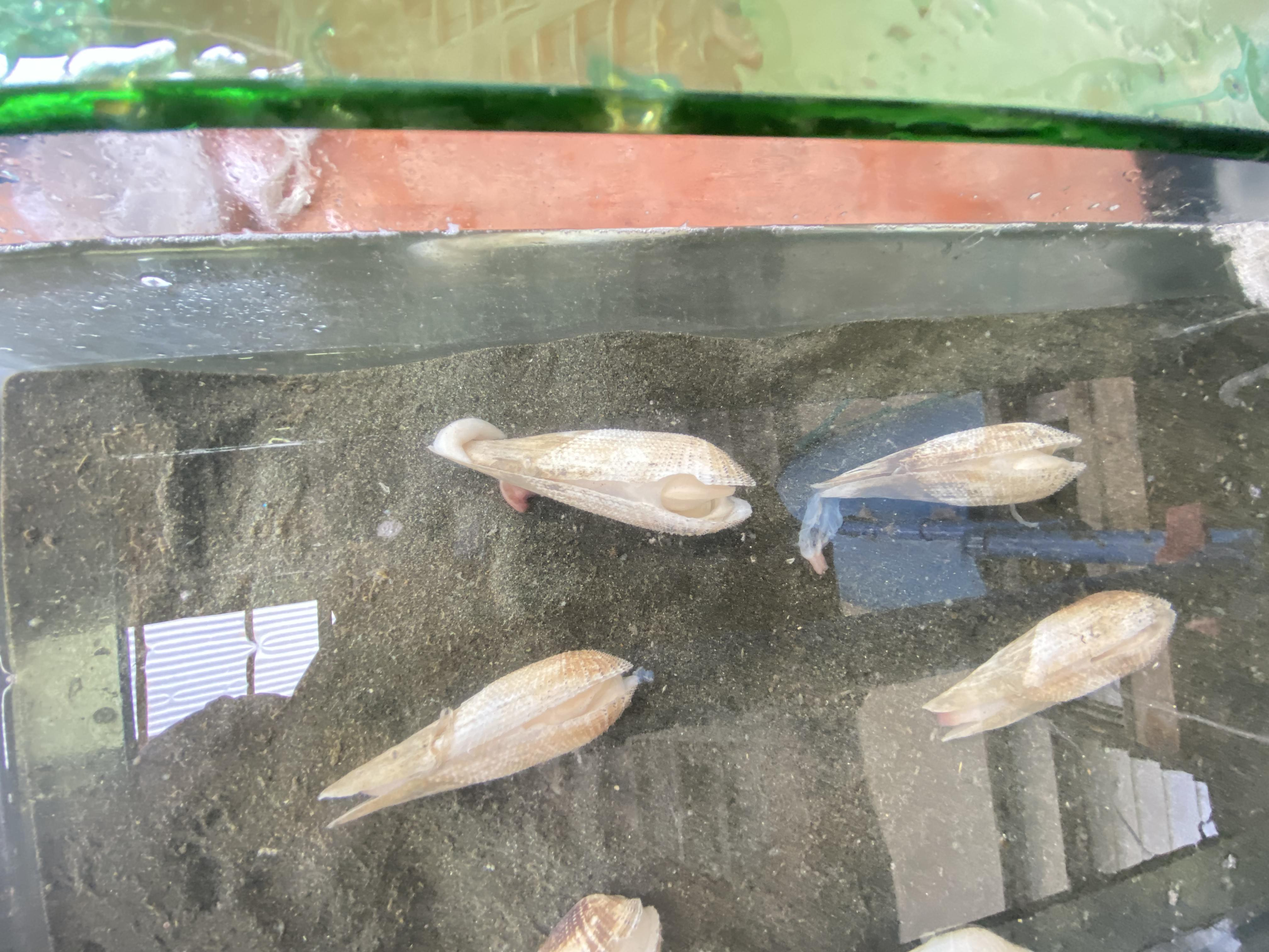At risk: (319, 649, 652, 827), (799, 422, 1085, 573), (429, 418, 755, 535), (924, 591, 1175, 740), (541, 895, 661, 952)
